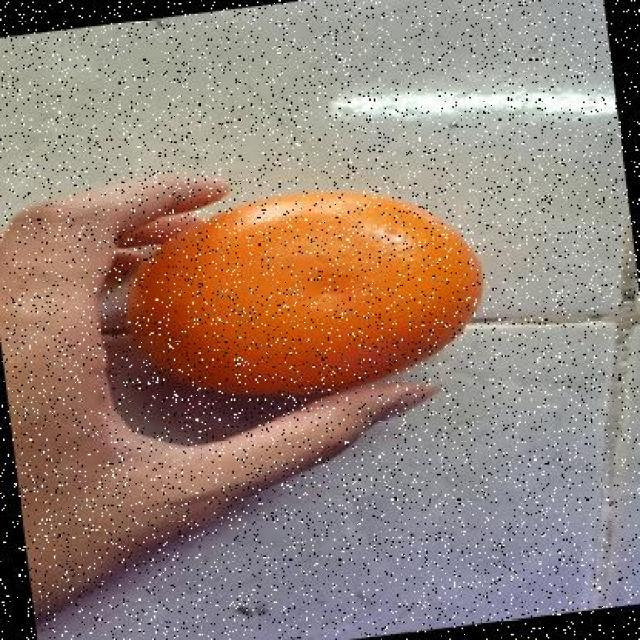Orange: (125, 186, 483, 397)
